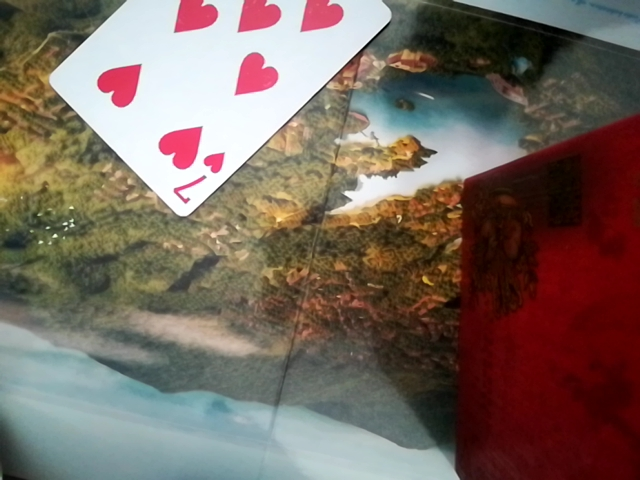hx 7: (43, 0, 391, 222)
